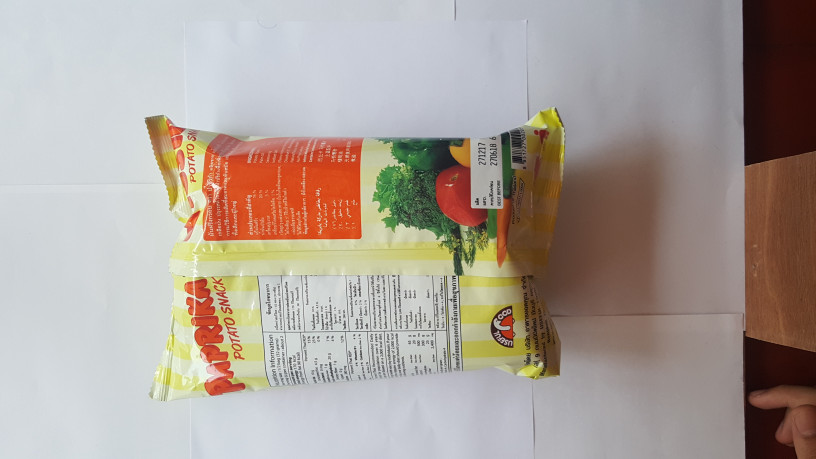paprika: (124, 112, 596, 411)
